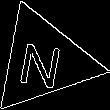N_N: (18, 32, 69, 89)
